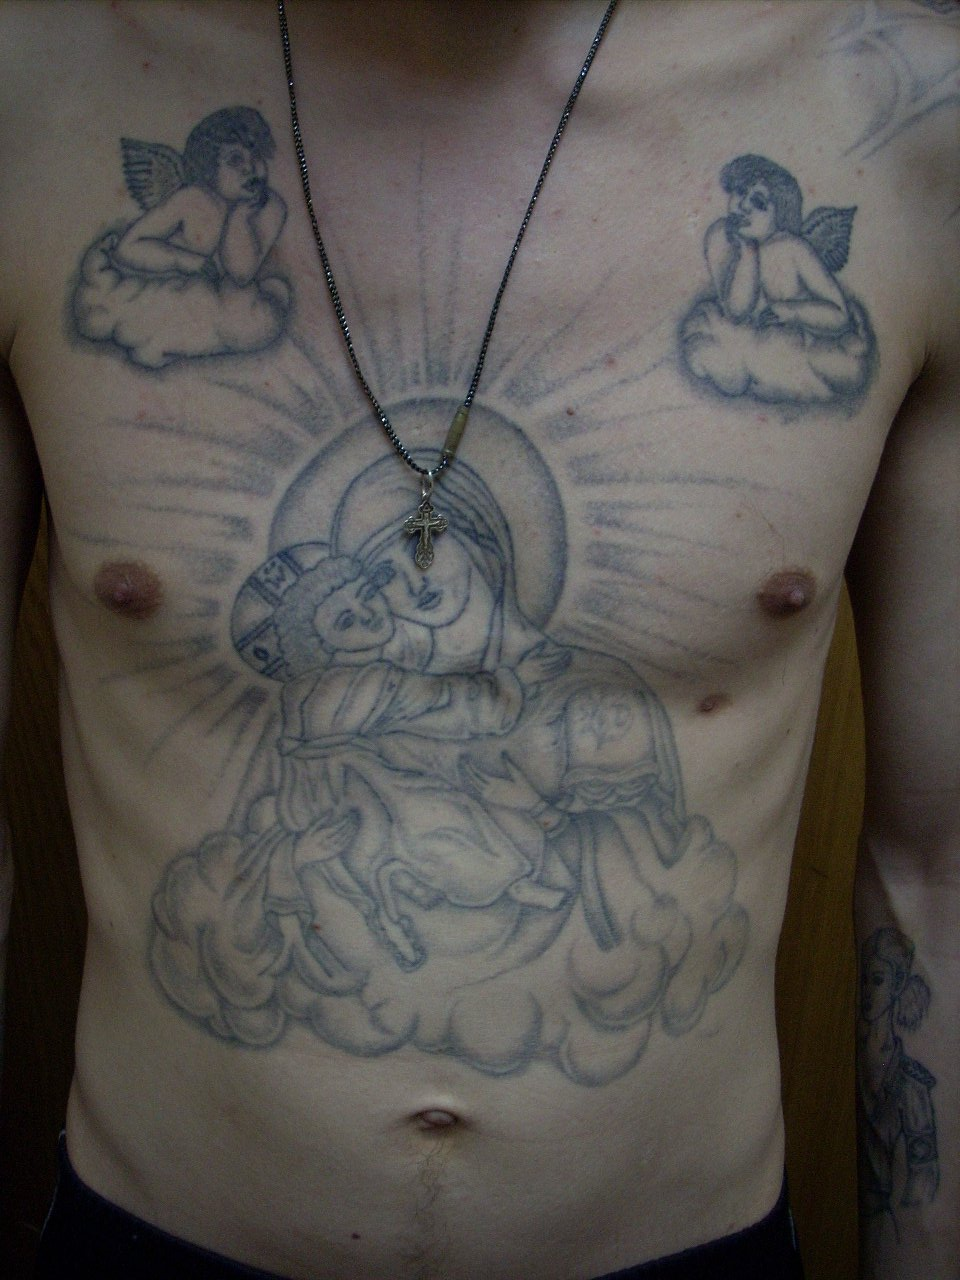tatu1_angel: (43, 72, 318, 399), (633, 101, 901, 426)
tatu2_bogorodica: (145, 378, 708, 982)
